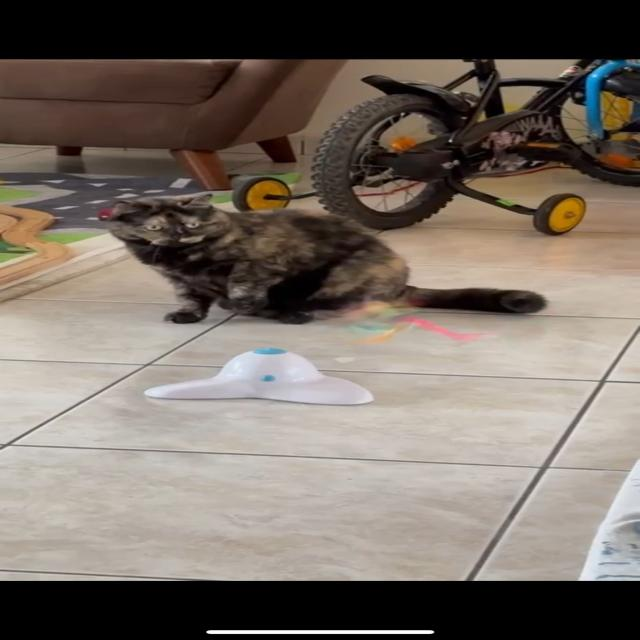authorized: (98, 192, 547, 326)
